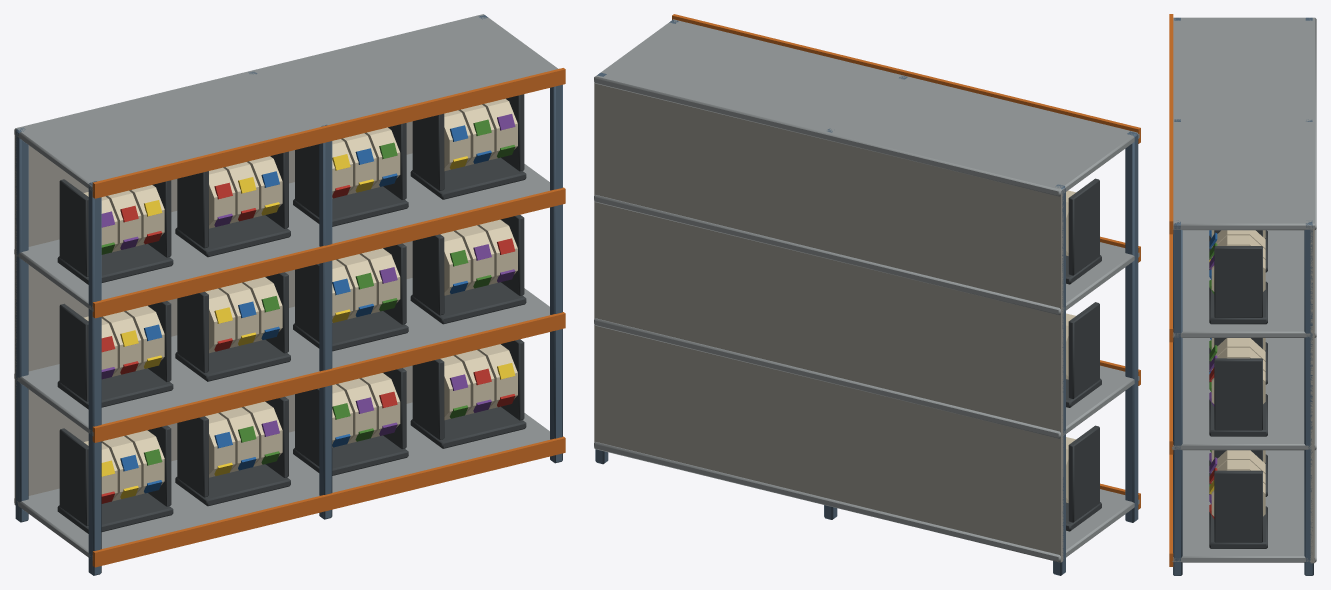
Rendered from 198_rayon_mecanismes.fbx.
3 renders of one model, left to right at view 1: azimuth 30°, elevation 25°; view 2: azimuth 150°, elevation 25°; view 3: azimuth 270°, elevation 25°, orthographic. The views are drawn at different scales.
Visible parts, largest first — view 1: Rayon, Articles; view 2: Rayon, Articles; view 3: Rayon, Articles.
Part boxes in pixels (box(x1,y1,x2,y2)): Rayon: box(14, 14, 565, 575); Articles: box(57, 94, 526, 533); Rayon: box(594, 14, 1140, 575); Articles: box(1066, 178, 1101, 531); Rayon: box(1169, 14, 1316, 575); Articles: box(1209, 230, 1267, 548).
Bounding box in the file's own units: 2.8 × 2.24 × 0.84.
Materials: 1 (1 with a texture image).
